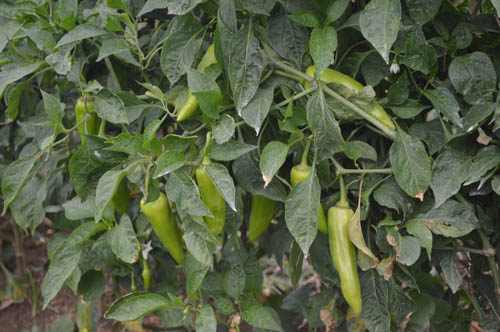ChiliPepper: (304, 68, 394, 134), (326, 209, 364, 315), (177, 46, 218, 126), (145, 197, 183, 260), (288, 169, 323, 233), (196, 166, 224, 236), (249, 174, 275, 242), (74, 100, 97, 155)
